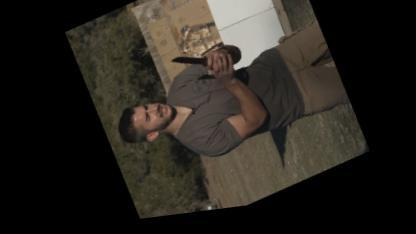knife: (160, 39, 225, 96)
